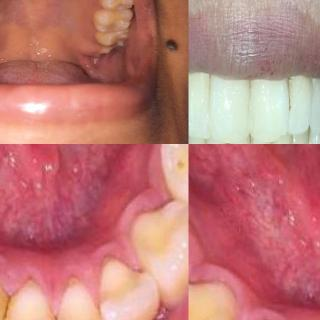Gum Swelling: (210, 264, 320, 320), (34, 230, 140, 288), (0, 206, 51, 286)
plaque: (188, 77, 210, 141), (279, 63, 298, 119), (303, 71, 320, 125), (92, 8, 108, 30), (298, 128, 316, 144), (285, 133, 301, 144), (244, 134, 258, 144), (94, 0, 108, 9)
stains: (0, 286, 18, 320), (40, 310, 72, 320)
